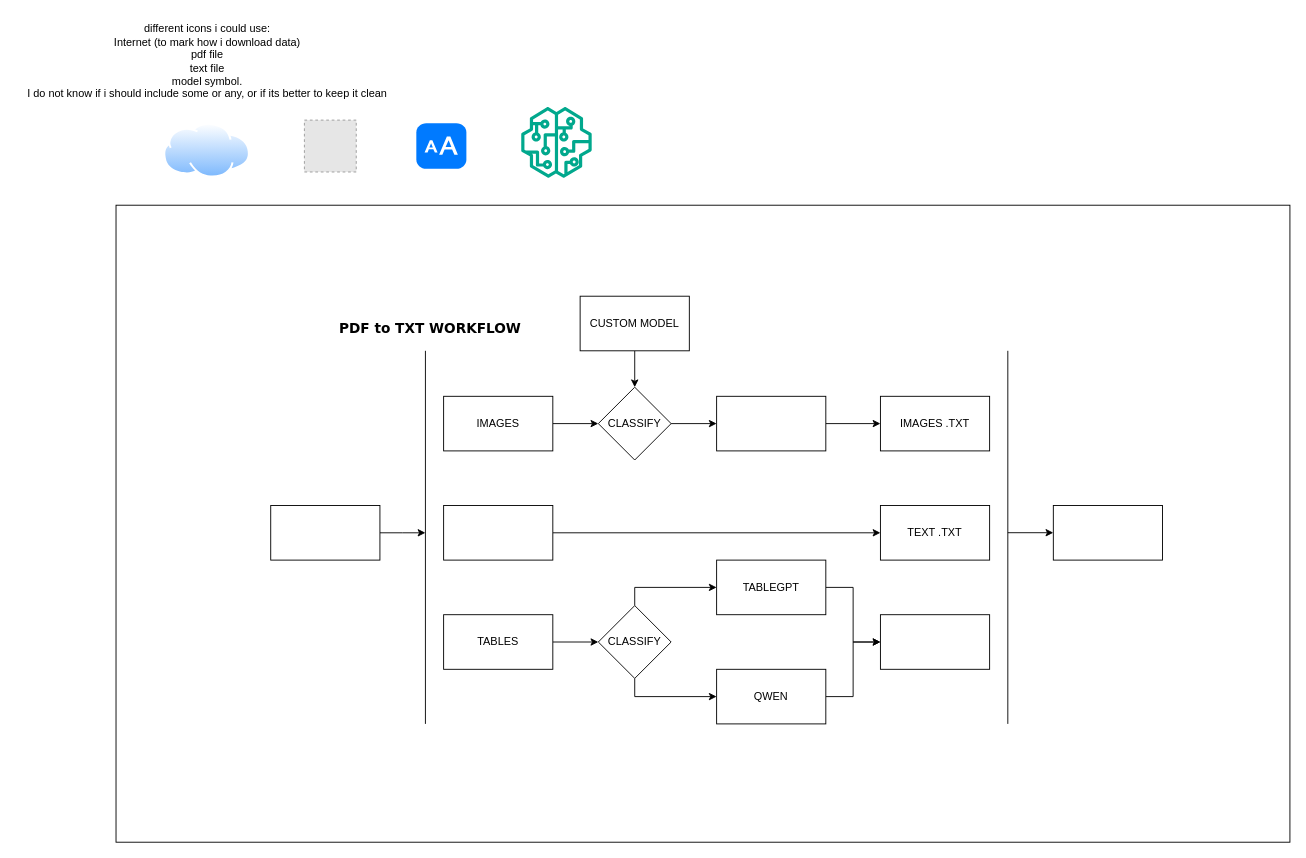
The diagram is 1306 pixels wide and 858 high, and some of its shapes have lost their labels. Grey dashed boxes stand in for pictures. Here are the shapes that lost their labels. From the top down, the centre of each, then its label:
At pixel 771 423: "LLAMA 3.1 VISION".
At pixel 325 532: "RAW PDFs".
At pixel 498 532: "TEXT".
At pixel 1107 532: "PDF .TXT".
At pixel 935 641: "TABLES .TXT".
